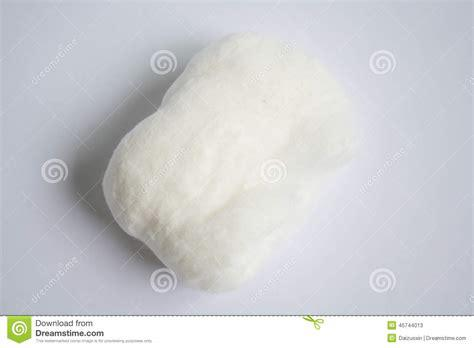cotton: (104, 39, 352, 289)
